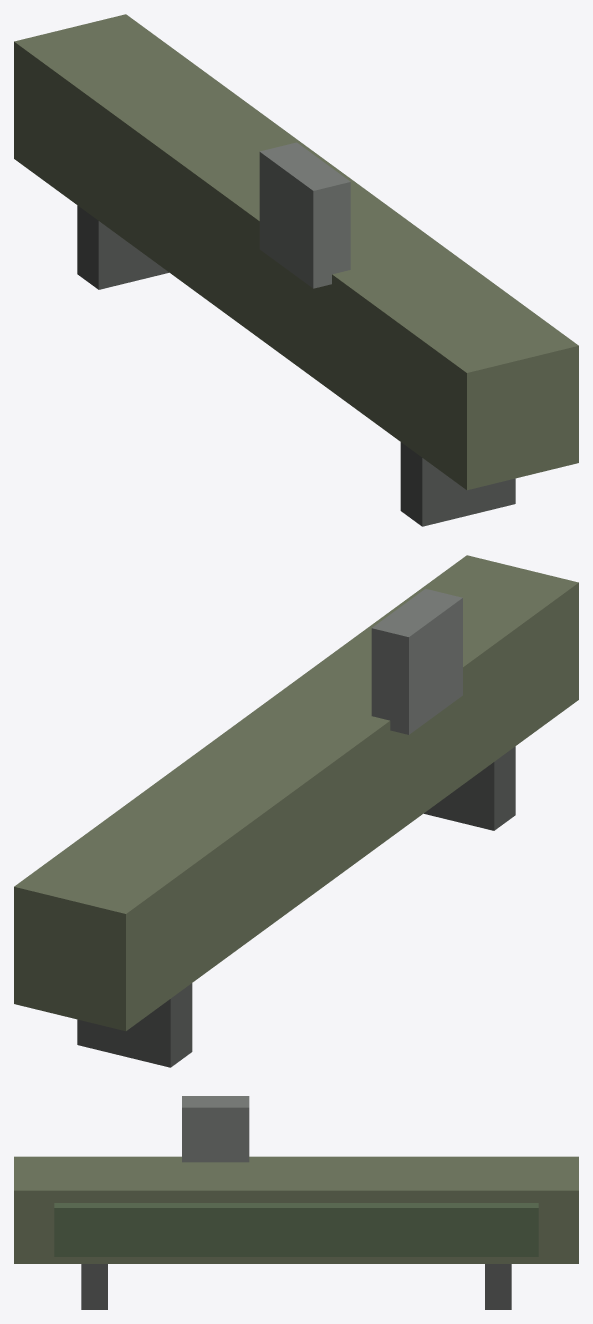
The model's file is w_mon.glb.
The picture shows the model from 3 angles, top to bottom: view 1: azimuth 30°, elevation 25°; view 2: azimuth 150°, elevation 25°; view 3: azimuth 270°, elevation 25°; orthographic projection. The views are drawn at different scales.
Parts seen in each view (by area): view 1: body; view 2: body; view 3: body.
Part boxes in pixels (bbox=[...]): body: bbox=[14, 14, 578, 526]; body: bbox=[14, 555, 578, 1067]; body: bbox=[14, 1096, 578, 1309].
Size of the model in its own units: 0.079 by 0.145 by 0.42.
